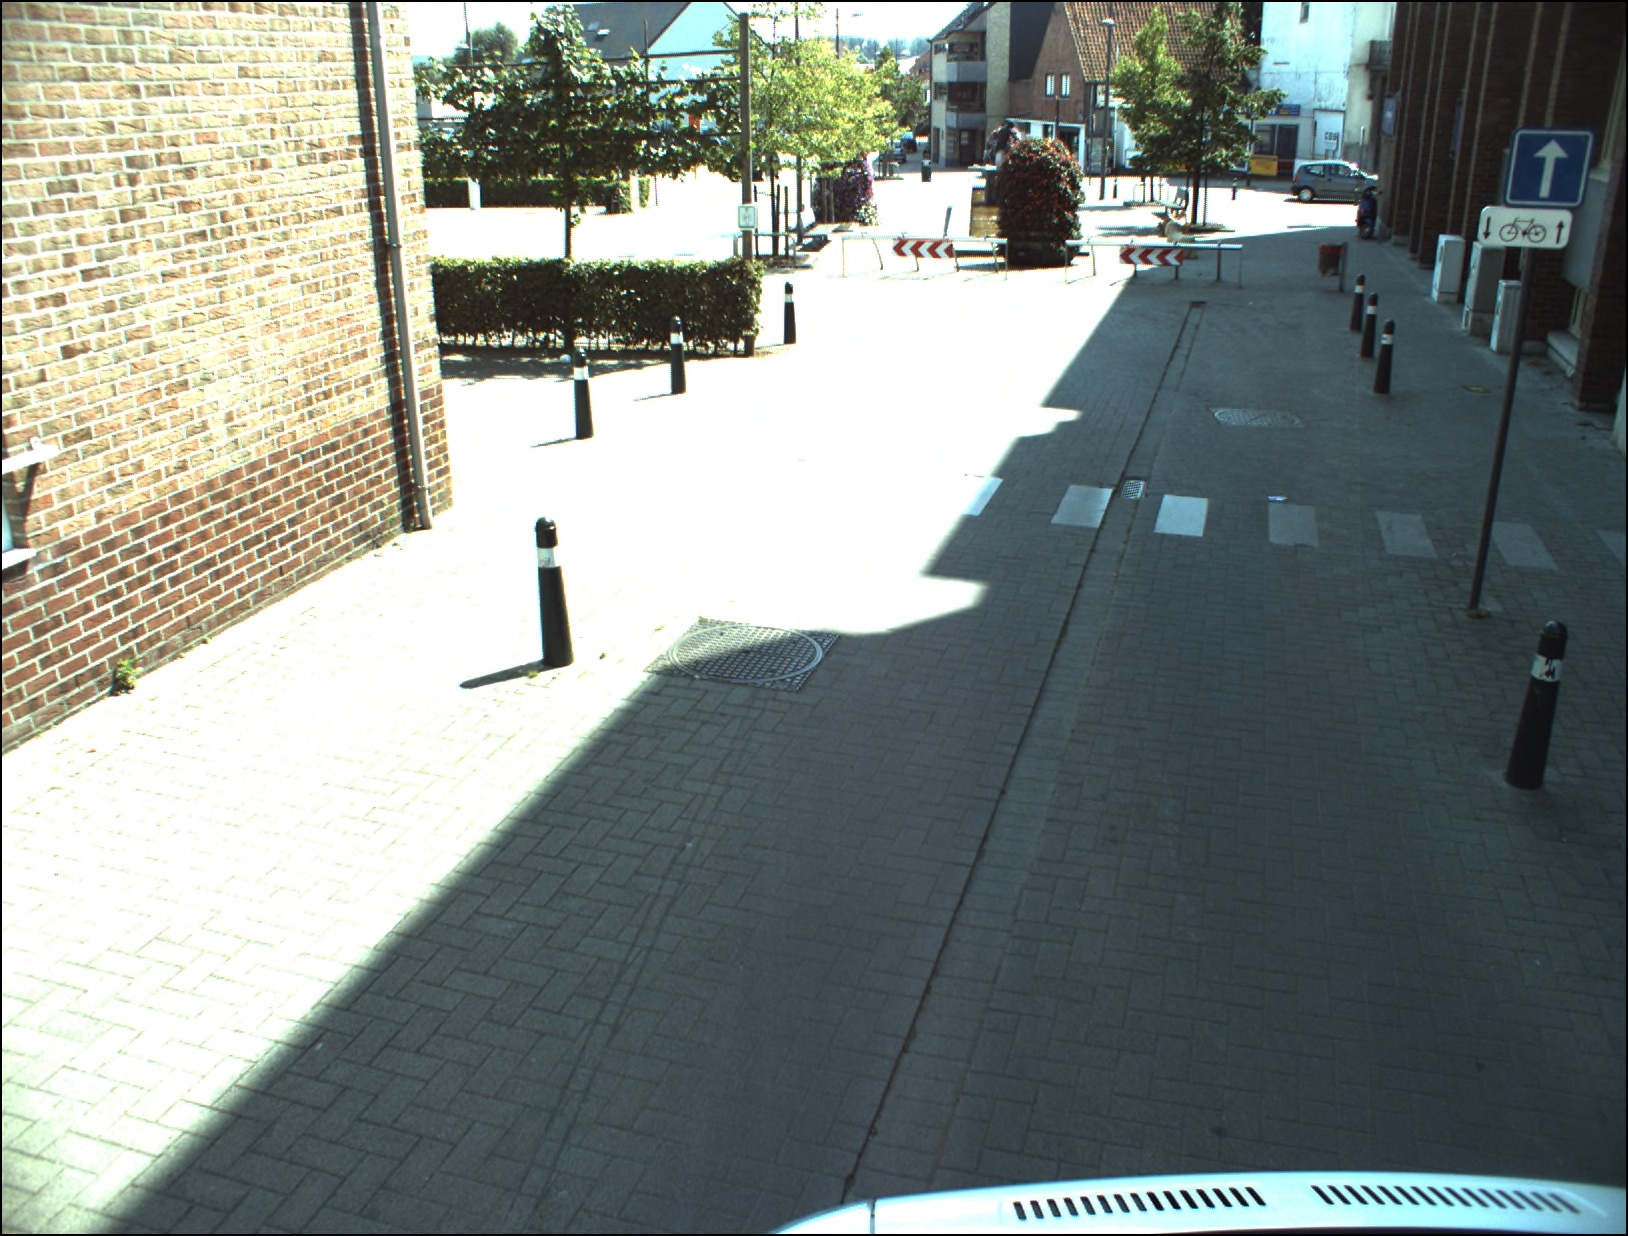oneway: (1507, 130, 1589, 206)
